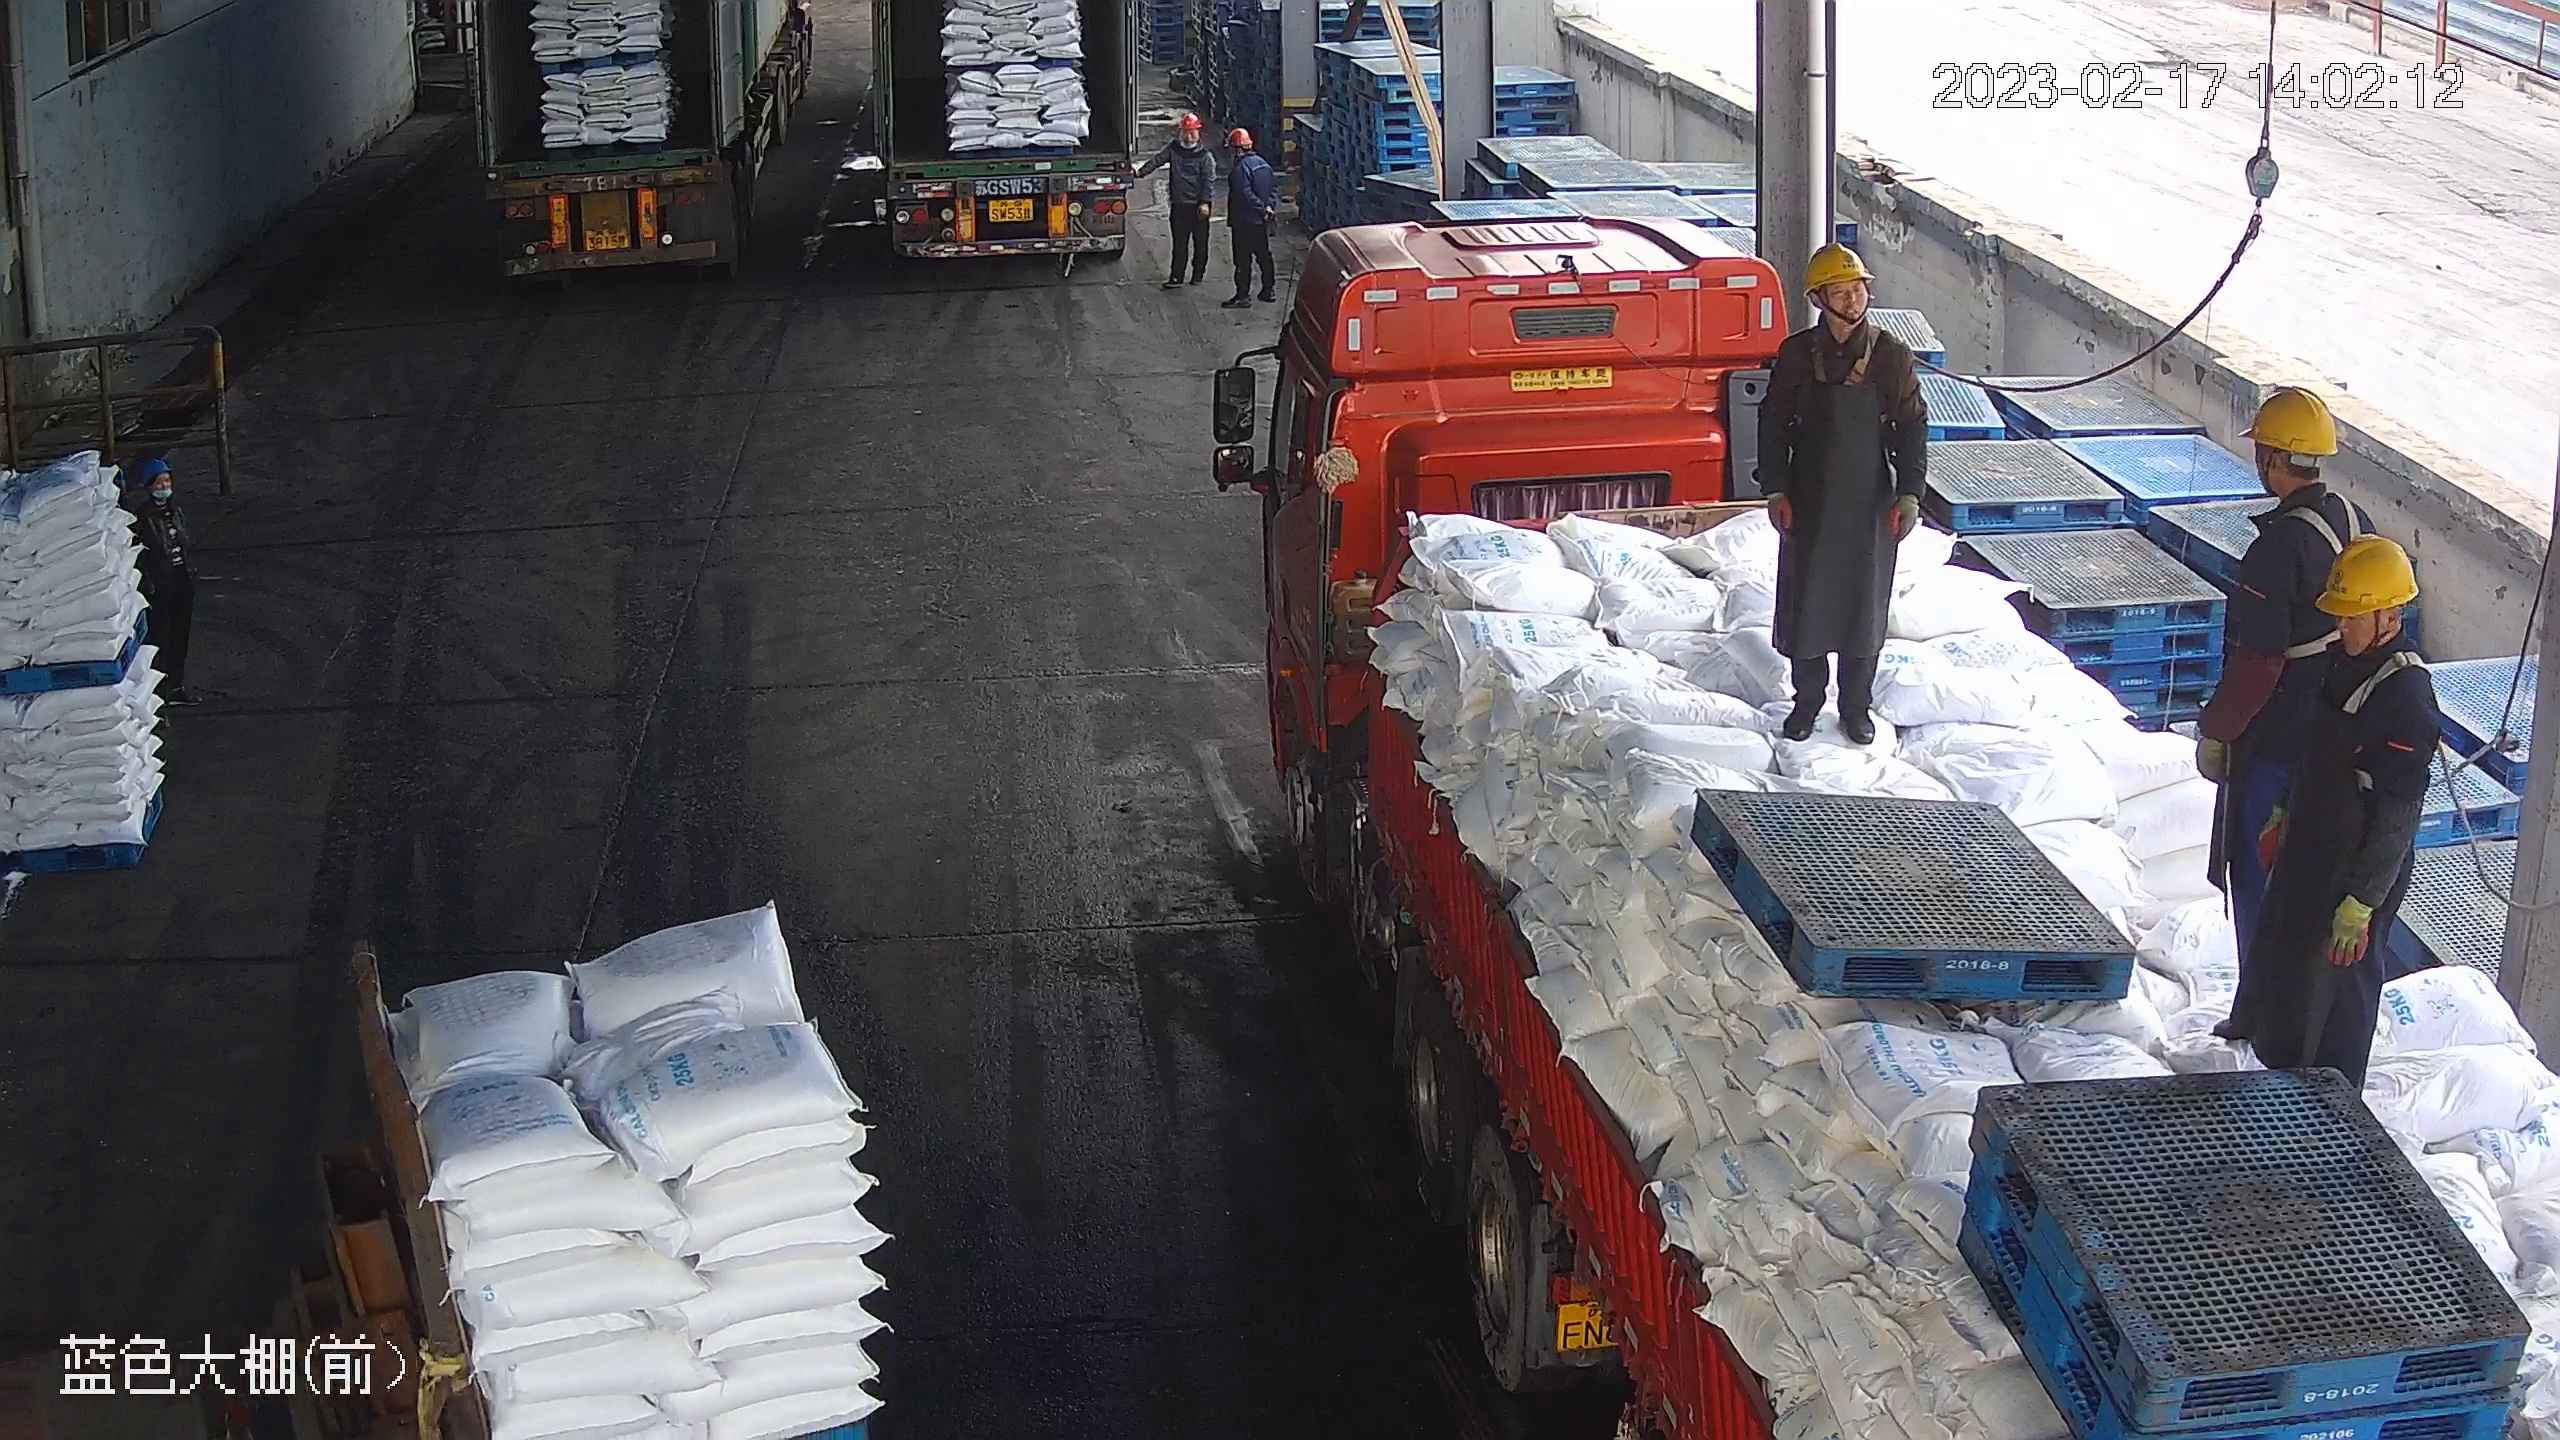belt: (2269, 486, 2384, 638), (2324, 642, 2444, 721), (1810, 318, 1891, 386)
head: (2277, 531, 2451, 741), (2216, 380, 2373, 570), (1764, 240, 1921, 390), (1221, 126, 1275, 187), (1162, 110, 1211, 169)
helmet: (2312, 529, 2422, 617), (2239, 382, 2344, 456), (1801, 240, 1871, 289), (1223, 126, 1252, 150), (1175, 110, 1202, 131)
people: (2218, 532, 2442, 1099), (1752, 240, 1929, 742), (1152, 109, 1216, 288), (1221, 124, 1275, 309)
truck: (1224, 193, 2560, 1440), (470, 1, 822, 283), (820, 10, 1148, 286)
